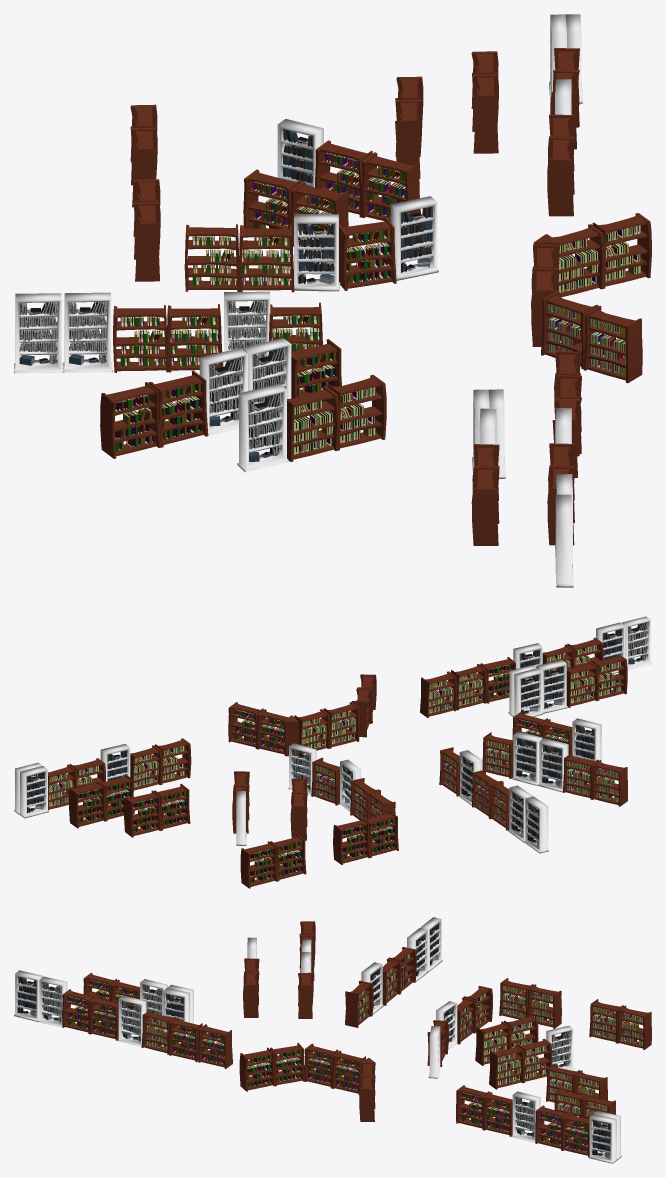
Rendered from BooksShells.fbx.
3 views of the same model, one above another, from view 1: azimuth 30°, elevation 25°; view 2: azimuth 150°, elevation 25°; view 3: azimuth 270°, elevation 25° (orthographic). The views are drawn at different scales.
Parts seen in each view (by area): view 1: Cube.193, Cube.312, Bookcase.023, Bookcase.027, Cube.034, Cube.027, Cube.185, Bookcase.026, Cube.045, Bookcase.025, Cube.199, Cube.049 (+53 smaller); view 2: Cube.211, Cube.039, Cube.140, Cube.043, Cube.137, Cube.193, Cube.306, Bookcase.026, Bookcase.005, Bookcase.022, Bookcase.009, Cube.203 (+76 smaller); view 3: Cube.188, Cube.043, Cube.296, Cube.306, Cube.312, Bookcase.008, Cube.039, Cube.131, Bookcase.003, Bookcase.028, Cube.146, Bookcase.002 (+64 smaller).
Boxes of the visible parts, x1,y1,x2,y2 form: Cube.193: (100, 382, 161, 458); Cube.312: (583, 305, 642, 383); Bookcase.023: (237, 384, 288, 472); Bookcase.027: (63, 292, 112, 372); Cube.034: (184, 224, 239, 291); Cube.027: (239, 224, 294, 292); Cube.185: (113, 305, 168, 372); Bookcase.026: (14, 293, 63, 373); Cube.045: (339, 217, 396, 290); Bookcase.025: (390, 196, 438, 280); Cube.199: (287, 386, 339, 461); Cube.049: (547, 137, 574, 216); Cube.211: (257, 709, 299, 756); Cube.039: (333, 818, 370, 864); Cube.140: (69, 781, 106, 828); Cube.043: (240, 841, 277, 888); Cube.137: (124, 790, 161, 837); Cube.193: (591, 760, 627, 806); Cube.306: (420, 671, 457, 717); Bookcase.026: (524, 796, 548, 853); Bookcase.005: (19, 766, 48, 818); Bookcase.022: (512, 731, 542, 785); Bookcase.009: (513, 668, 543, 716); Cube.203: (566, 661, 598, 707); Cube.188: (345, 980, 373, 1027); Cube.043: (617, 1005, 651, 1049); Cube.296: (489, 1045, 524, 1089); Cube.306: (198, 1024, 232, 1068); Cube.312: (239, 1047, 275, 1091); Bookcase.008: (588, 1114, 617, 1163); Cube.039: (527, 984, 561, 1028); Cube.131: (475, 1021, 510, 1065); Bookcase.003: (118, 995, 146, 1046); Bookcase.028: (14, 970, 42, 1021); Cube.146: (169, 1017, 202, 1062); Bookcase.002: (512, 1091, 540, 1142).
Bounding box in the file's own units: 32.32 × 3.06 × 41.52.
20 materials, 12 textured.
